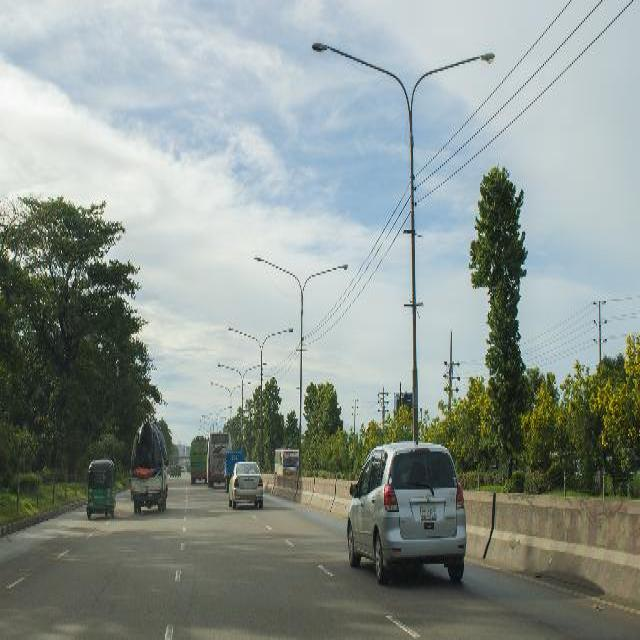bus: (205, 427, 222, 488), (188, 431, 205, 481), (273, 444, 297, 471)
car: (346, 436, 466, 579), (227, 459, 263, 508)
pickup: (130, 414, 168, 508), (222, 446, 250, 458)
suv: (180, 462, 183, 470)
three wheelers -CNG-: (86, 453, 114, 514), (174, 459, 180, 473), (170, 461, 174, 475)
